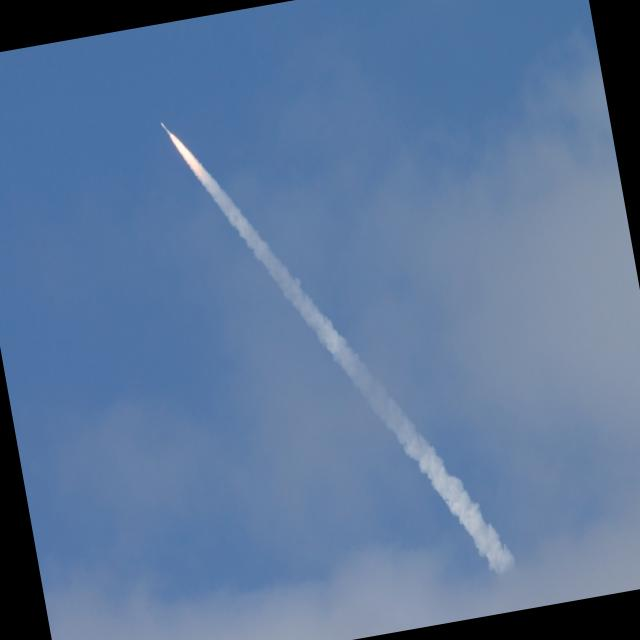rocket: (154, 100, 264, 272)
